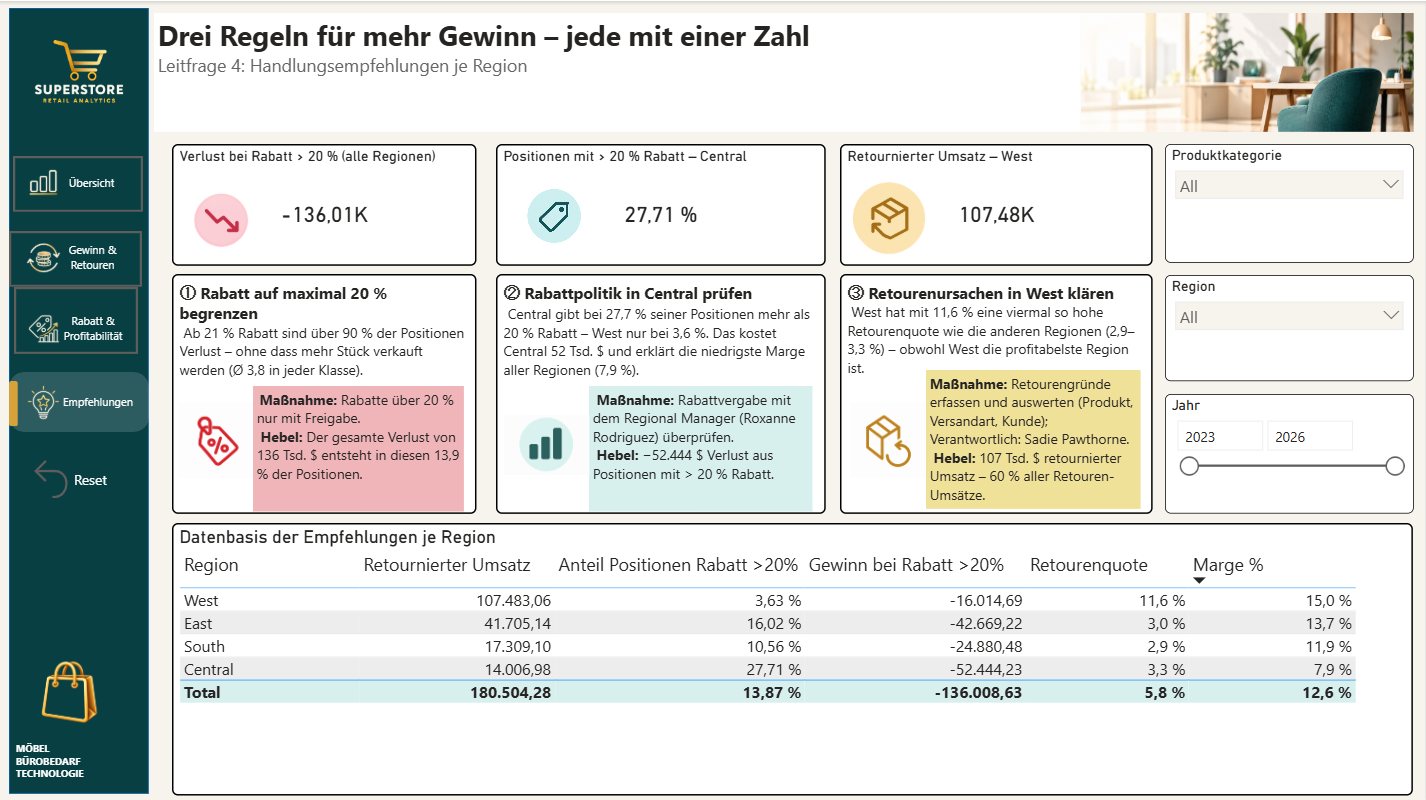

The page's visual inventory and layout, read from the dashboard file:
{"tool":"powerbi","page":{"name":"Empfehlungen","canvas":[1920,1080],"ordinal":3},"visuals":[{"type":"tableEx","title":"Datenbasis der Empfehlungen je Region","fields":{"Values":["Dim_Region.Region","_Kennzahlen1.Retournierter Umsatz","_Kennzahlen1.Anteil Positionen Rabatt >20%","_Kennzahlen1.Gewinn bei Rabatt >20%","_Kennzahlen1.Retourenquote","_Kennzahlen1.Marge %"]},"box":[231.6,702.6,1671.2,366.5],"z":0},{"type":"card","title":"Verlust bei Rabatt > 20 % (alle Regionen)","fields":{"Values":["_Kennzahlen1.Gewinn bei Rabatt >20%"]},"box":[232.2,192.6,409.7,164.2],"z":1000},{"type":"textbox","box":[231.7,368,410.1,323],"z":2000},{"type":"card","title":"Positionen mit > 20 % Rabatt – Central","fields":{"Values":["_Kennzahlen1.Anteil Positionen Rabatt >20%"]},"box":[668.6,192.4,443.8,164.3],"z":3000},{"type":"textbox","box":[1130.7,368,421.4,323],"z":4000},{"type":"textbox","box":[668.6,368,443.8,323],"z":5000},{"type":"card","title":"Retournierter Umsatz – West","fields":{"Values":["_Kennzahlen1.Retournierter Umsatz"]},"box":[1130.7,192.4,421.4,164.3],"z":6000},{"type":"shape","box":[12,10,188,1058],"z":7000},{"type":"image","box":[12.1,10.8,188.5,162.9],"z":8000},{"type":"shape","box":[12.1,400,188.5,80.8],"z":9000},{"type":"image","box":[31,405.3,55,70],"z":10000},{"type":"shape","box":[12.1,499.6,188.5,80.8],"z":11000},{"type":"image","box":[31,505,55,70],"z":12000},{"type":"shape","box":[12.1,204.7,188.5,80.8],"z":13000},{"type":"image","box":[31,208.7,55.2,70],"z":14000},{"type":"shape","box":[12,512,12,61],"z":15000},{"type":"shape","box":[31,304.3,160.2,80.8],"z":16000},{"type":"image","box":[31,309.7,55,70],"z":17000},{"type":"image","box":[18.9,879.4,148.1,101],"z":18000},{"type":"textbox","box":[16,992,192,80],"z":19000},{"type":"textbox","box":[208,16,1248,160],"z":20000},{"type":"image","box":[1456,16,448,160],"z":21000},{"type":"slicer","title":"Produktkategorie","fields":{"Values":["Dim_Produkt.First(Category)"]},"box":[1569,192.3,335,160.3],"z":22000},{"type":"slicer","title":"Jahr","fields":{"Values":["Dim_Date.Jahr"]},"box":[1569.3,529.3,334.8,161.4],"z":23000},{"type":"slicer","title":"Region","fields":{"Values":["Dim_Region.Region"]},"box":[1568.8,369,335.3,142.7],"z":24000},{"type":"image","box":[678.4,227.5,134.8,123.6],"z":25000},{"type":"image","box":[241.6,237.4,113.8,115.2],"z":26000},{"type":"image","box":[1130.7,227.5,132,129.2],"z":27000},{"type":"image","box":[241.6,529.5,103.9,125],"z":28000},{"type":"textbox","box":[341.3,518.3,283.7,168.5],"z":29000},{"type":"textbox","box":[793.6,518.3,300.6,168.5],"z":30000},{"type":"image","box":[678.4,518.3,115.2,158.7],"z":31000},{"type":"textbox","box":[1247.2,497.2,289.3,186.8],"z":32000},{"type":"image","box":[1146.1,518.3,101.1,144.7],"z":33000},{"type":"actionButton","box":[18.9,385.1,167,90.2],"z":33001},{"type":"actionButton","box":[12.1,309.7,179.1,75.4],"z":33002},{"type":"actionButton","box":[17.5,208.7,175.1,75.4],"z":33003},{"type":"actionButton","box":[35.8,610.9,149.7,64.9],"z":33004}]}

Visuals, with their boxes on the page's 1920x1080 design canvas (x1, y1, x2, y2). These are canvas units, not pixel positions in the 1426x800 screenshot, which may show the page scaled, cropped or inside an application window:
"Datenbasis der Empfehlungen je Region" tableEx: rect(232, 703, 1903, 1069)
"Verlust bei Rabatt > 20 % (alle Regionen)" card: rect(232, 193, 642, 357)
textbox: rect(232, 368, 642, 691)
"Positionen mit > 20 % Rabatt – Central" card: rect(669, 192, 1112, 357)
textbox: rect(1131, 368, 1552, 691)
textbox: rect(669, 368, 1112, 691)
"Retournierter Umsatz – West" card: rect(1131, 192, 1552, 357)
shape: rect(12, 10, 200, 1068)
image: rect(12, 11, 201, 174)
shape: rect(12, 400, 201, 481)
image: rect(31, 405, 86, 475)
shape: rect(12, 500, 201, 580)
image: rect(31, 505, 86, 575)
shape: rect(12, 205, 201, 286)
image: rect(31, 209, 86, 279)
shape: rect(12, 512, 24, 573)
shape: rect(31, 304, 191, 385)
image: rect(31, 310, 86, 380)
image: rect(19, 879, 167, 980)
textbox: rect(16, 992, 208, 1072)
textbox: rect(208, 16, 1456, 176)
image: rect(1456, 16, 1904, 176)
"Produktkategorie" slicer: rect(1569, 192, 1904, 353)
"Jahr" slicer: rect(1569, 529, 1904, 691)
"Region" slicer: rect(1569, 369, 1904, 512)
image: rect(678, 228, 813, 351)
image: rect(242, 237, 355, 353)
image: rect(1131, 228, 1263, 357)
image: rect(242, 530, 346, 654)
textbox: rect(341, 518, 625, 687)
textbox: rect(794, 518, 1094, 687)
image: rect(678, 518, 794, 677)
textbox: rect(1247, 497, 1536, 684)
image: rect(1146, 518, 1247, 663)
actionButton: rect(19, 385, 186, 475)
actionButton: rect(12, 310, 191, 385)
actionButton: rect(18, 209, 193, 284)
actionButton: rect(36, 611, 186, 676)
